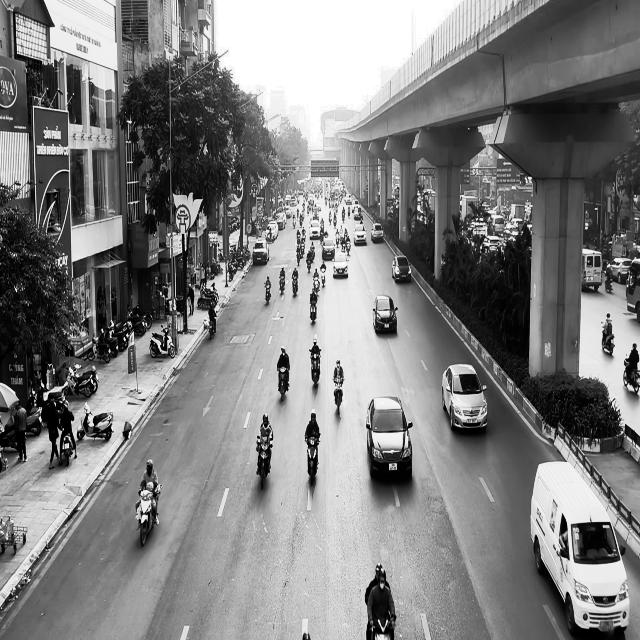car: (366, 396, 412, 478), (442, 363, 488, 431), (372, 294, 398, 333), (392, 255, 412, 282), (252, 238, 269, 265), (332, 252, 348, 278), (353, 223, 367, 246), (371, 222, 383, 242)
motorbike: (136, 483, 162, 547), (76, 401, 114, 440), (149, 323, 175, 358), (256, 436, 272, 490), (366, 614, 396, 640), (305, 432, 320, 483), (623, 357, 640, 395), (59, 426, 75, 466), (600, 321, 615, 355), (309, 348, 321, 388), (333, 375, 344, 414), (277, 366, 289, 401), (309, 297, 317, 322), (208, 315, 216, 339), (291, 275, 298, 297), (264, 282, 271, 304), (320, 264, 326, 287), (279, 275, 285, 294)
truck: (530, 460, 630, 636)
